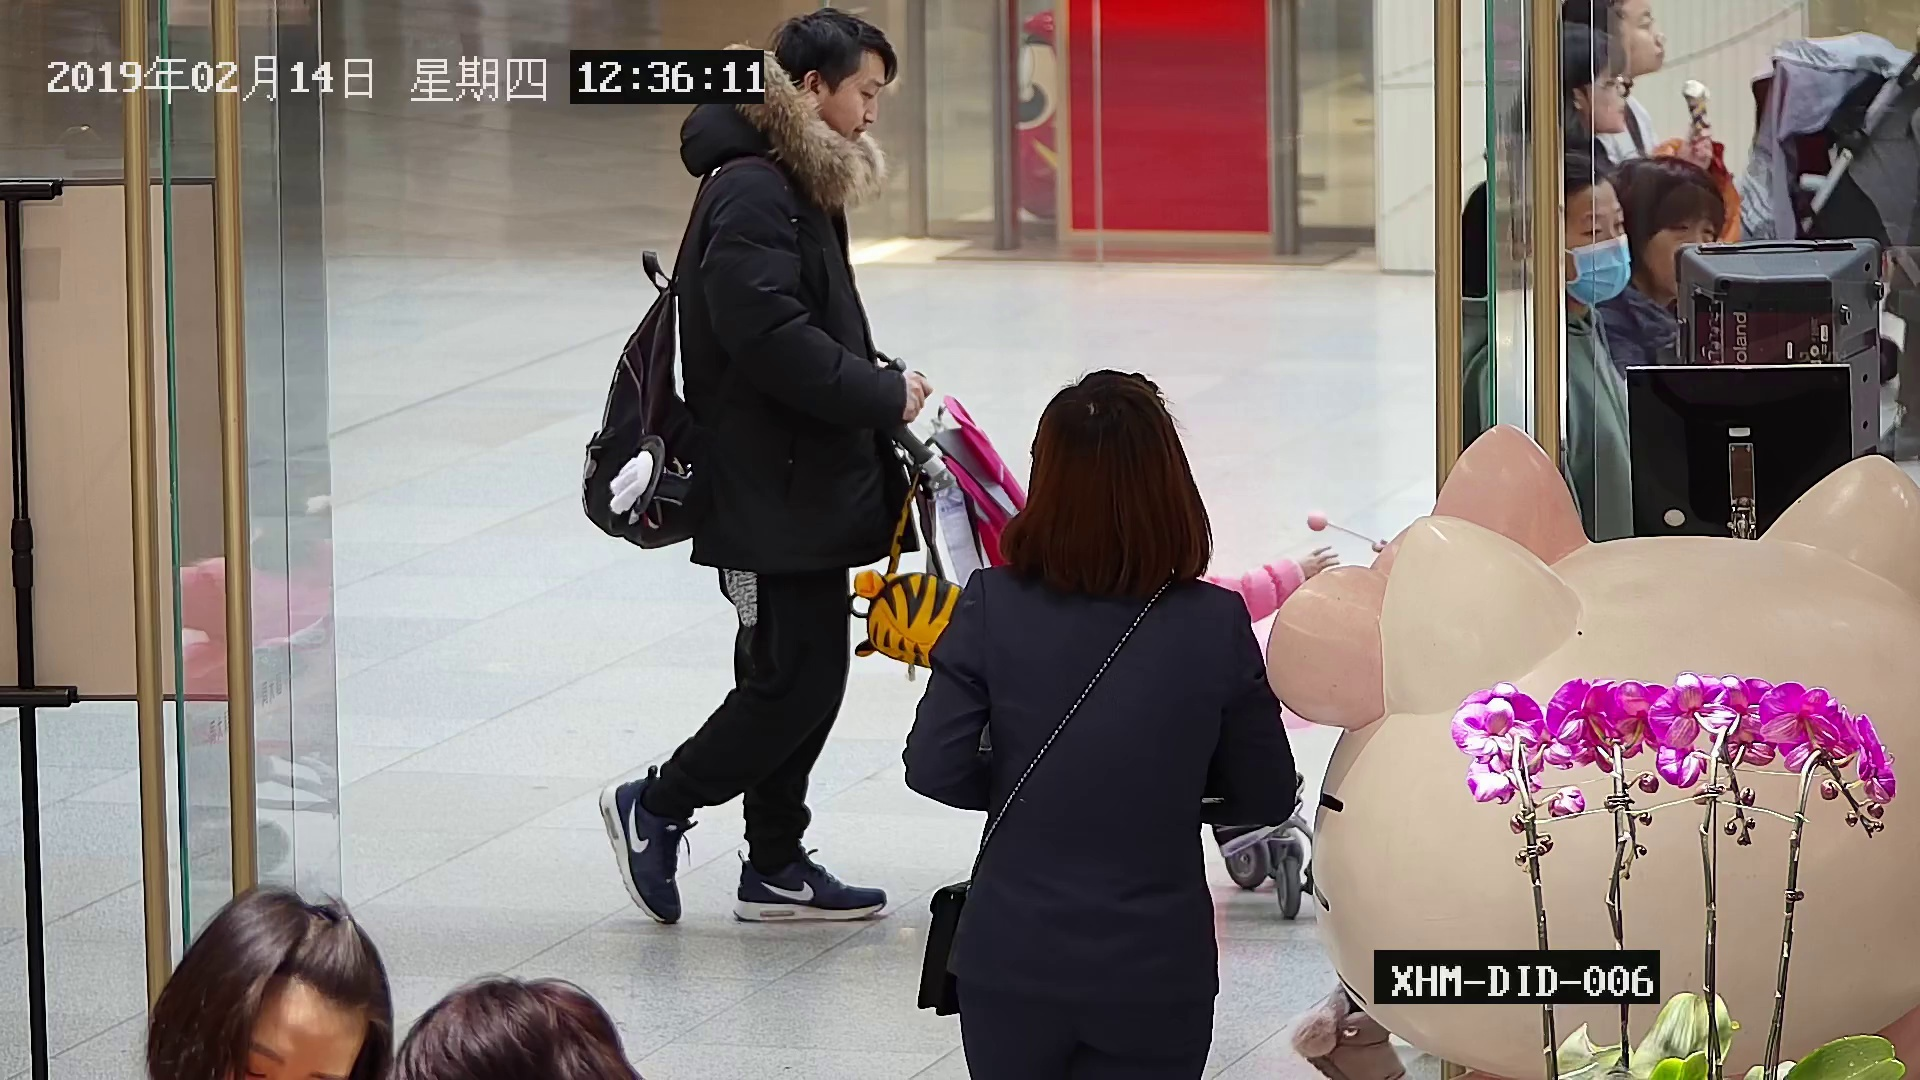head: (150, 884, 377, 1075), (1024, 366, 1177, 563), (396, 978, 633, 1075), (771, 4, 894, 153), (1515, 154, 1632, 307), (1615, 154, 1724, 299), (1537, 20, 1628, 133), (1553, 0, 1664, 76)
